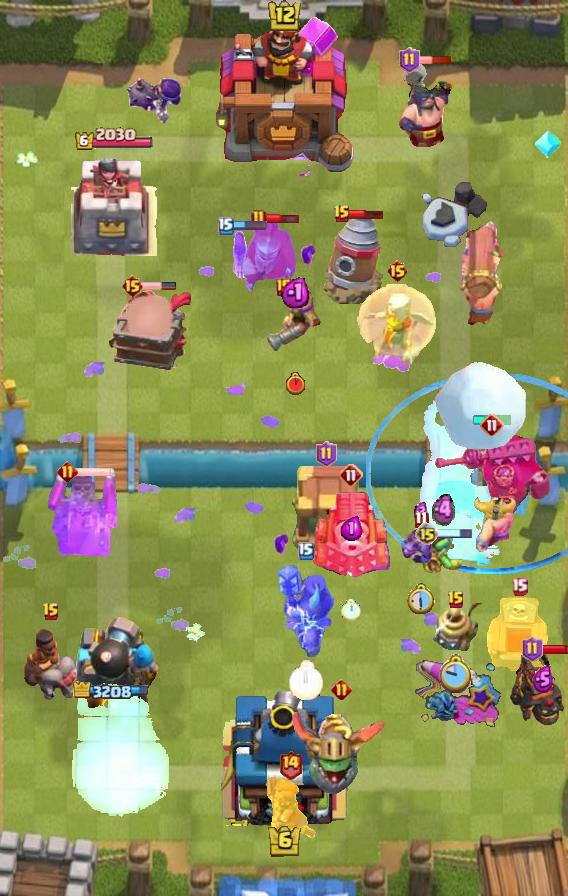archer-evolution: (508, 647, 568, 727)
battle-healer: (458, 213, 506, 327)
bomb: (287, 465, 365, 553)
bomb-tower: (266, 283, 324, 353)
dart-goblin: (108, 289, 193, 371)
electro-spirit: (281, 276, 309, 308), (432, 492, 455, 527), (532, 665, 554, 693), (341, 516, 362, 541), (414, 500, 428, 522)
elite-barbarian: (22, 626, 80, 702)
elixir: (288, 660, 323, 700), (439, 654, 473, 693), (408, 583, 437, 615), (341, 599, 361, 621), (287, 372, 306, 395)
elixir-golem-mid: (484, 596, 554, 682)
emote: (264, 212, 300, 225), (75, 466, 113, 478), (437, 528, 473, 540), (349, 208, 385, 219), (232, 220, 268, 231), (141, 281, 177, 291), (417, 55, 452, 65), (540, 643, 567, 655)
giant-snowball: (419, 532, 467, 574)
goblin: (231, 231, 251, 281)
goblin-ball: (124, 68, 184, 126)
goblin-drill: (430, 603, 482, 655)
goblin-giant: (472, 496, 516, 552)
golem: (311, 488, 391, 578)
ice-spirit: (472, 415, 512, 425)
inferno-dragon: (277, 563, 335, 657)
inferno-tower: (432, 434, 552, 518)
king-tower: (211, 7, 357, 181), (214, 684, 354, 826)
magic-archer: (320, 210, 386, 308)
mega-knight: (71, 682, 174, 819)
monk: (396, 62, 454, 148)
night-witch: (292, 704, 390, 796)
pad_0: (365, 374, 568, 576)
pad_2: (533, 129, 563, 159)
poison: (355, 283, 440, 375)
queen-tower: (71, 156, 157, 256)
royal-delivery: (401, 522, 441, 570)
selected: (74, 127, 154, 153), (73, 681, 155, 703)
skeleton-king-bar: (43, 468, 117, 556)
tesla-evolution: (262, 774, 318, 840)
text: (277, 749, 302, 780), (480, 413, 504, 437), (339, 463, 363, 487), (415, 522, 439, 546), (399, 47, 421, 73), (386, 259, 409, 283), (120, 274, 143, 298), (316, 441, 337, 467), (522, 636, 543, 662), (57, 462, 78, 483), (332, 679, 353, 700), (333, 204, 351, 224), (447, 590, 465, 610), (42, 602, 60, 622), (511, 577, 529, 595), (251, 209, 267, 229), (218, 217, 234, 235), (276, 278, 292, 296), (298, 542, 314, 560), (415, 511, 430, 529)
tower-bar: (64, 615, 164, 731)
wall-breaker: (434, 360, 528, 452)
wall-breaker-evolution: (242, 218, 298, 298)
